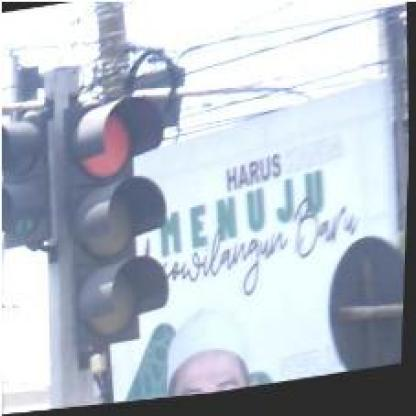red: (56, 91, 179, 352)
